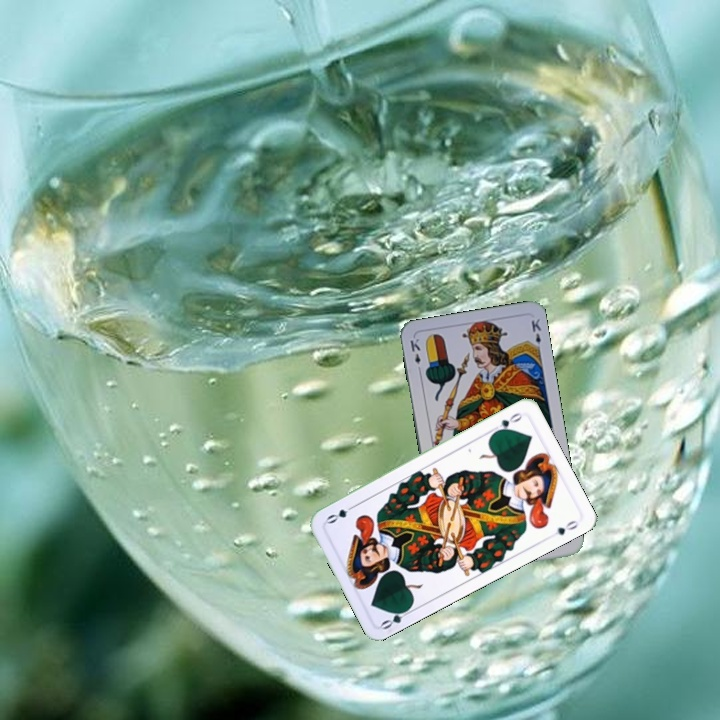EK: (406, 334, 424, 375)
GO: (377, 603, 416, 632), (487, 408, 524, 436)
